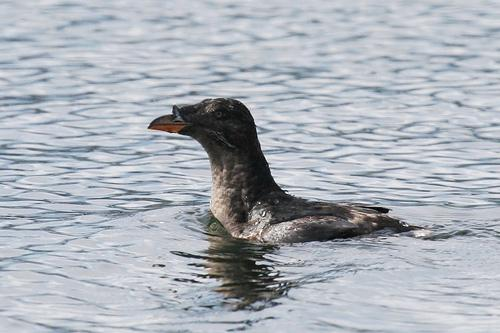008.Rhinoceros_Auklet: (145, 97, 425, 245)
